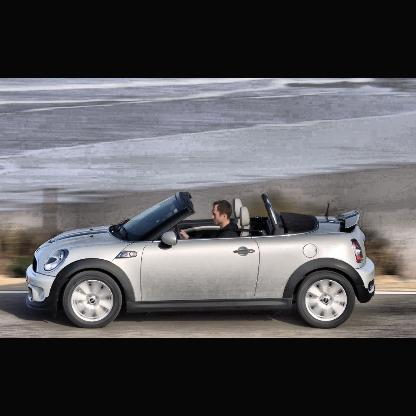MINI Cooper Roadster Convertible 2012: (26, 194, 377, 330)
